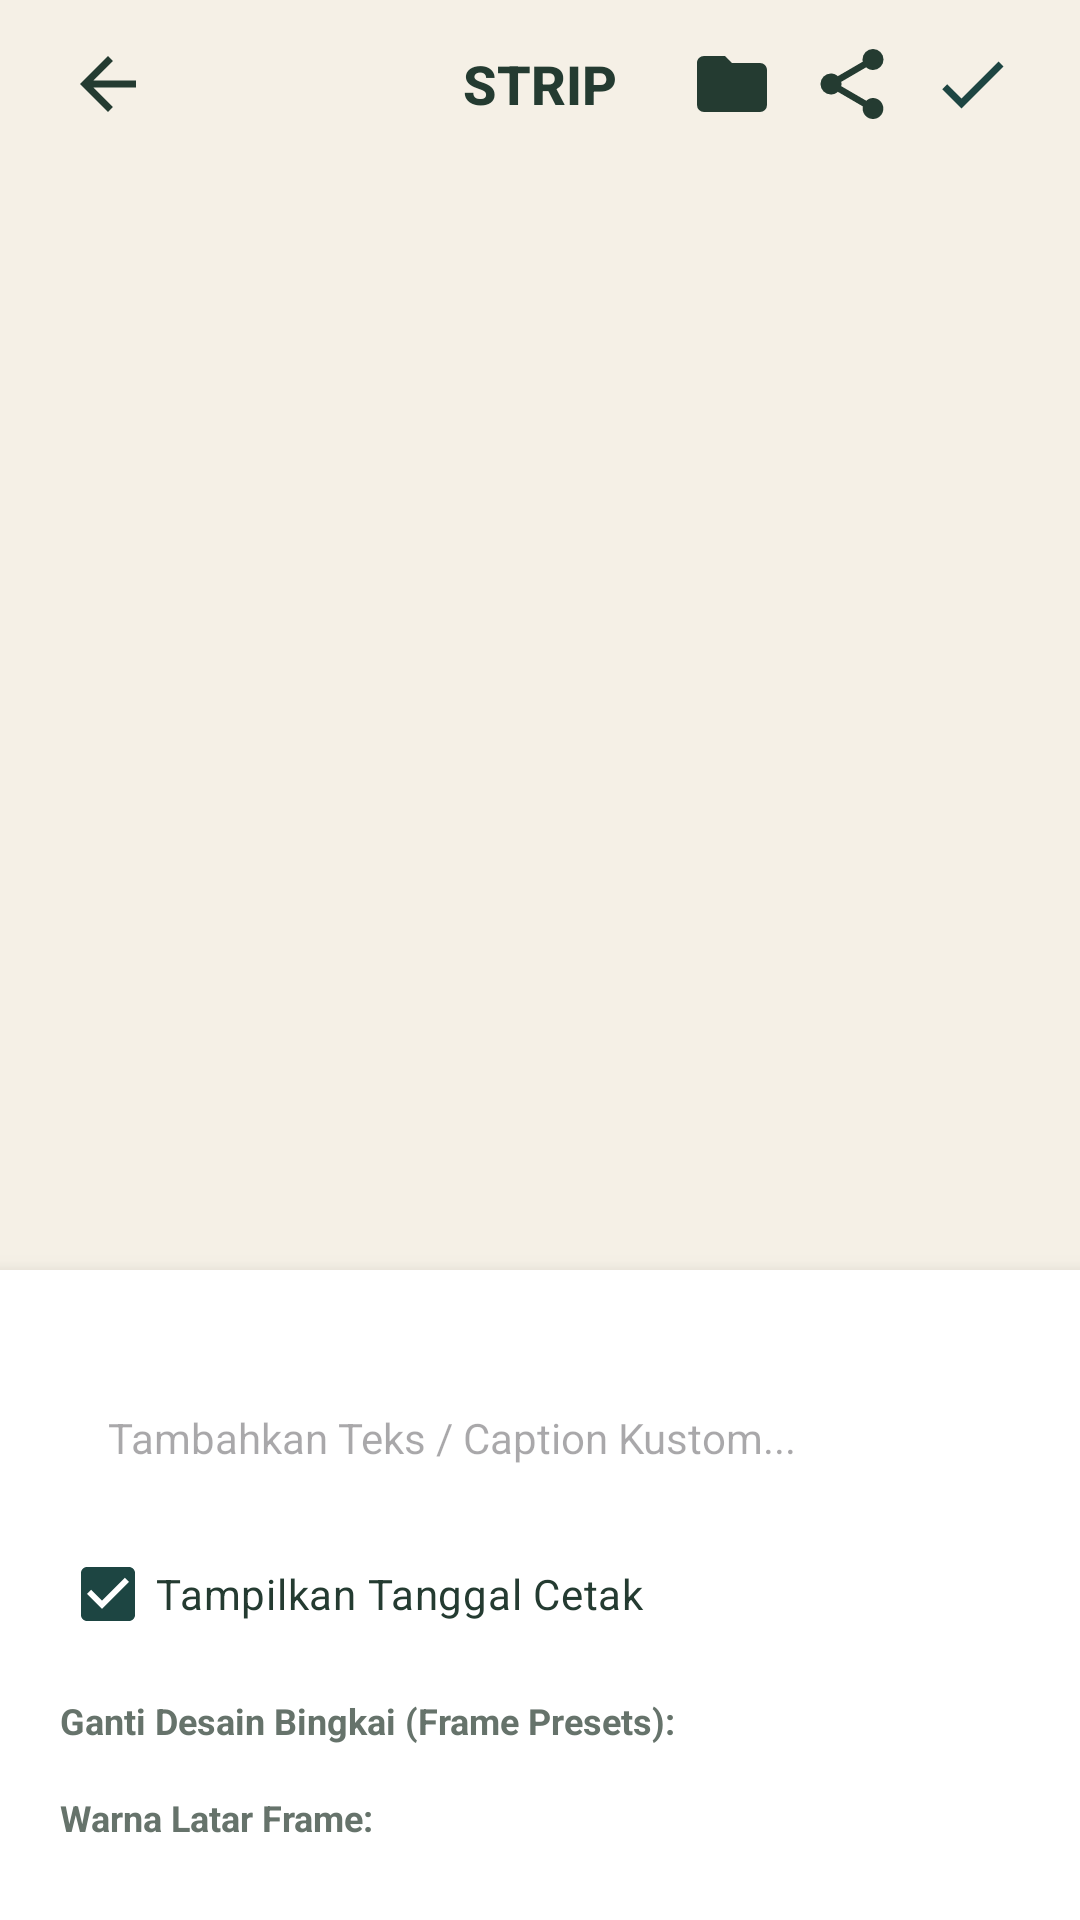

Named icons in this screenshot (1080px×1920px) and their centers, [x,y]:
Bagikan: [852,84]
Kembali: [108,84]
Simpan: [973,85]
